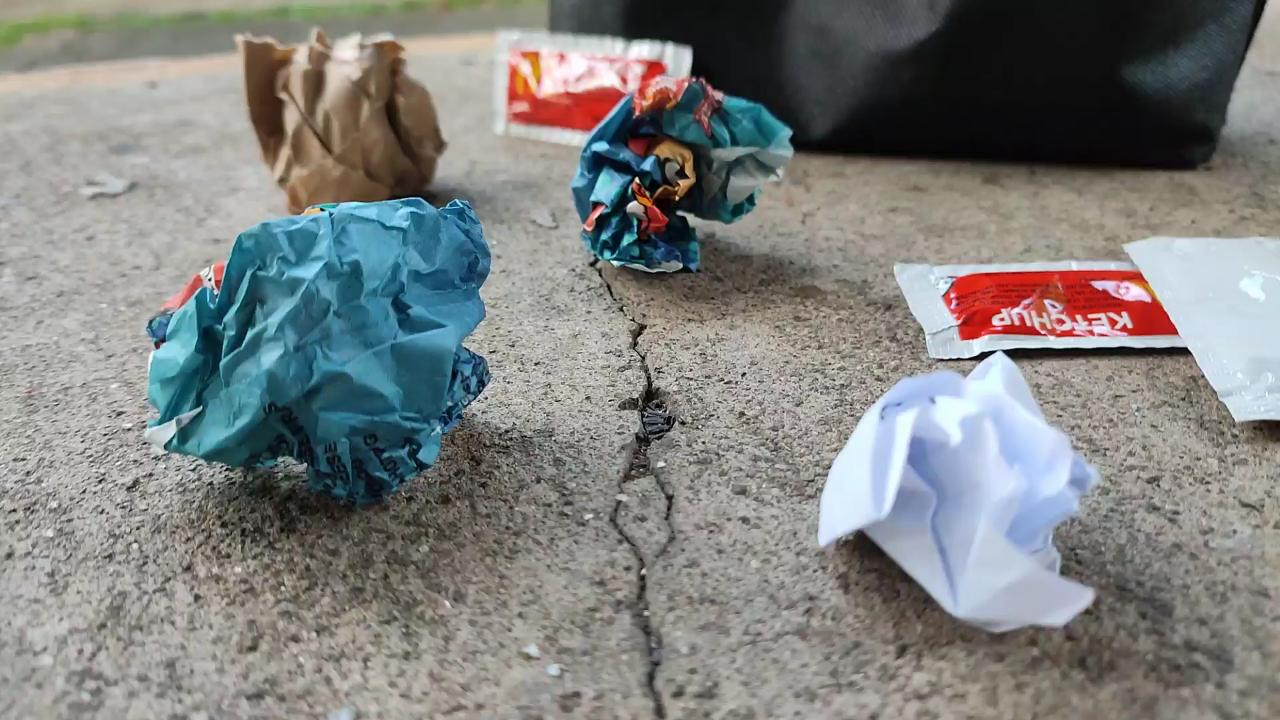Paper: (132, 194, 497, 504), (782, 347, 1122, 654), (565, 72, 792, 288), (224, 20, 458, 226)
